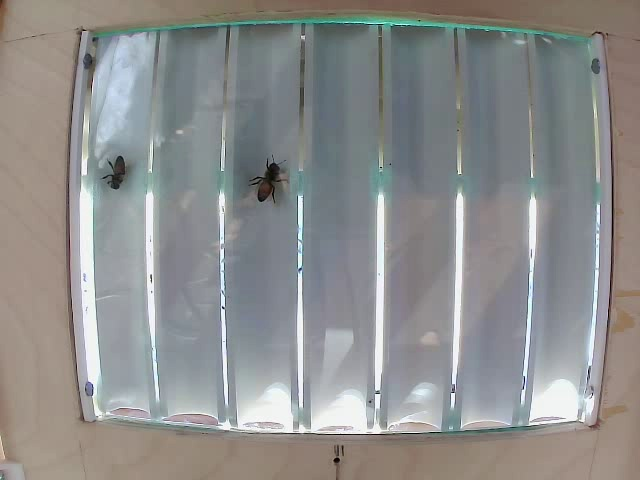bee: (254, 163, 296, 217), (99, 149, 131, 193)
